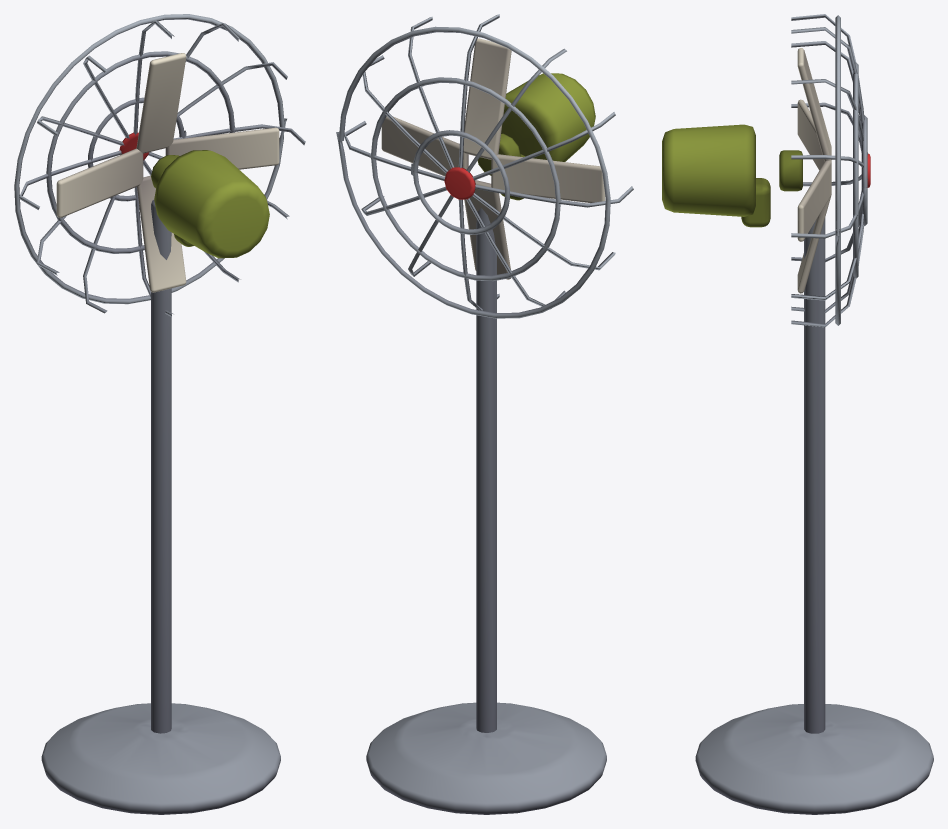
File: mc_floor_fan__000.glb
The picture shows the model from 3 angles, left to right: view 1: azimuth 30°, elevation 25°; view 2: azimuth 150°, elevation 25°; view 3: azimuth 270°, elevation 25°; orthographic projection.
Visible parts, largest first — view 1: merged_toon_A8B0BA, group, group_2, group_3, group_5, group_4; view 2: merged_toon_A8B0BA, group, group_2, group_3, group_5, group_4, group_1; view 3: merged_toon_A8B0BA, group, group_5, group_2, group_1, group_3, group_4.
Boxes of the visible parts, <box> form: merged_toon_A8B0BA: <box>41,200,280,814</box>; group: <box>14,14,305,317</box>; group_2: <box>136,53,186,153</box>; group_3: <box>56,148,143,217</box>; group_5: <box>165,127,279,169</box>; group_4: <box>137,175,186,292</box>; merged_toon_A8B0BA: <box>366,208,606,814</box>; group: <box>336,14,633,318</box>; group_2: <box>463,38,511,159</box>; group_3: <box>491,154,605,202</box>; group_5: <box>381,116,468,176</box>; group_4: <box>464,180,510,279</box>; group_1: <box>477,133,520,175</box>; merged_toon_A8B0BA: <box>695,218,933,814</box>; group: <box>662,14,870,327</box>; group_5: <box>797,161,831,241</box>; group_2: <box>797,48,831,161</box>; group_1: <box>779,150,802,191</box>; group_3: <box>797,99,824,170</box>; group_4: <box>797,194,831,293</box>.
Bounding box in the file's own units: 0.5391 × 1.39 × 0.4631.
